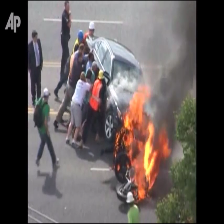fire_h: (121, 79, 171, 200)
fire_l: (114, 131, 120, 157), (125, 162, 129, 169), (117, 164, 120, 170)
